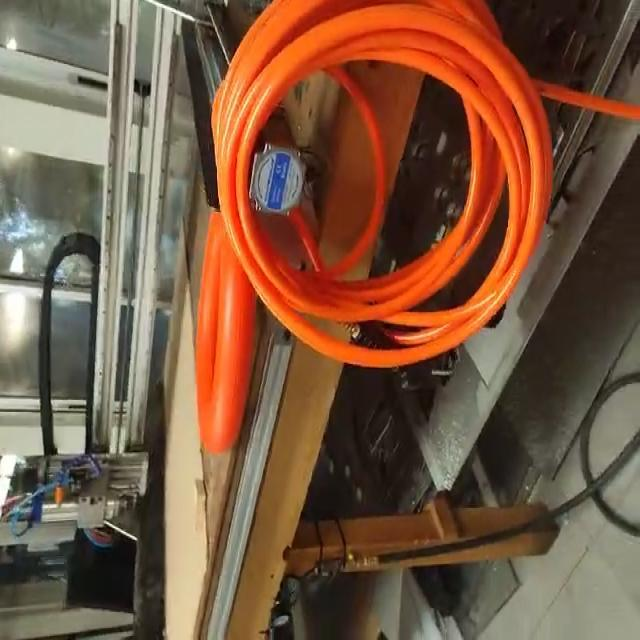note: (194, 208, 262, 456)
